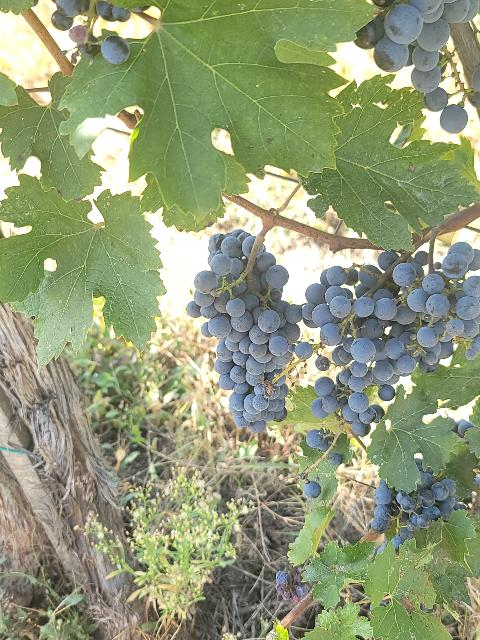grapes: (186, 230, 302, 434), (301, 266, 418, 435), (392, 242, 480, 370)
